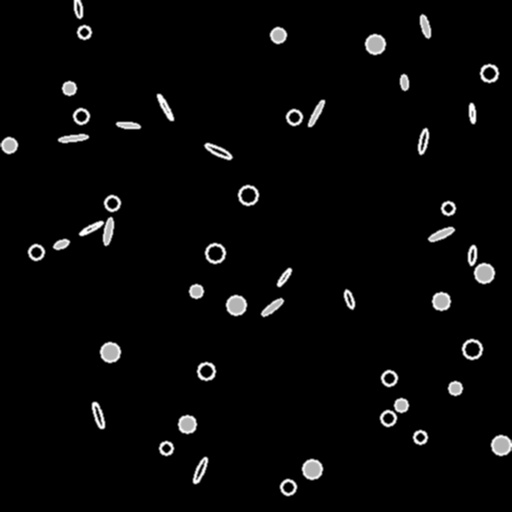pseudomonas: (204, 142, 232, 160), (156, 93, 174, 121), (307, 99, 325, 127), (427, 226, 455, 242), (261, 297, 283, 317), (192, 457, 208, 483), (91, 401, 105, 429), (79, 220, 103, 236), (276, 267, 292, 287), (417, 128, 429, 154), (419, 14, 431, 38), (103, 217, 113, 245), (343, 289, 355, 309), (59, 134, 87, 142), (116, 121, 140, 129), (468, 245, 476, 265), (53, 239, 69, 249), (74, 0, 82, 17), (400, 74, 408, 90), (469, 103, 475, 123)
synechocystis: (239, 186, 257, 204), (206, 244, 224, 262), (366, 35, 384, 53), (492, 436, 510, 454), (463, 340, 481, 358), (303, 460, 321, 478), (227, 296, 245, 314), (101, 343, 119, 361), (475, 264, 493, 282), (179, 416, 195, 432), (198, 363, 214, 379), (433, 293, 449, 309), (481, 65, 497, 81), (382, 371, 396, 385), (381, 411, 395, 425), (105, 196, 119, 210), (281, 480, 295, 494), (287, 110, 301, 124), (271, 28, 285, 42), (29, 245, 43, 259), (74, 109, 88, 123), (2, 138, 16, 152), (63, 82, 75, 94), (395, 399, 407, 411), (190, 285, 202, 297), (442, 202, 454, 214), (160, 442, 172, 454), (78, 26, 90, 38), (449, 382, 461, 394), (414, 431, 426, 443)
